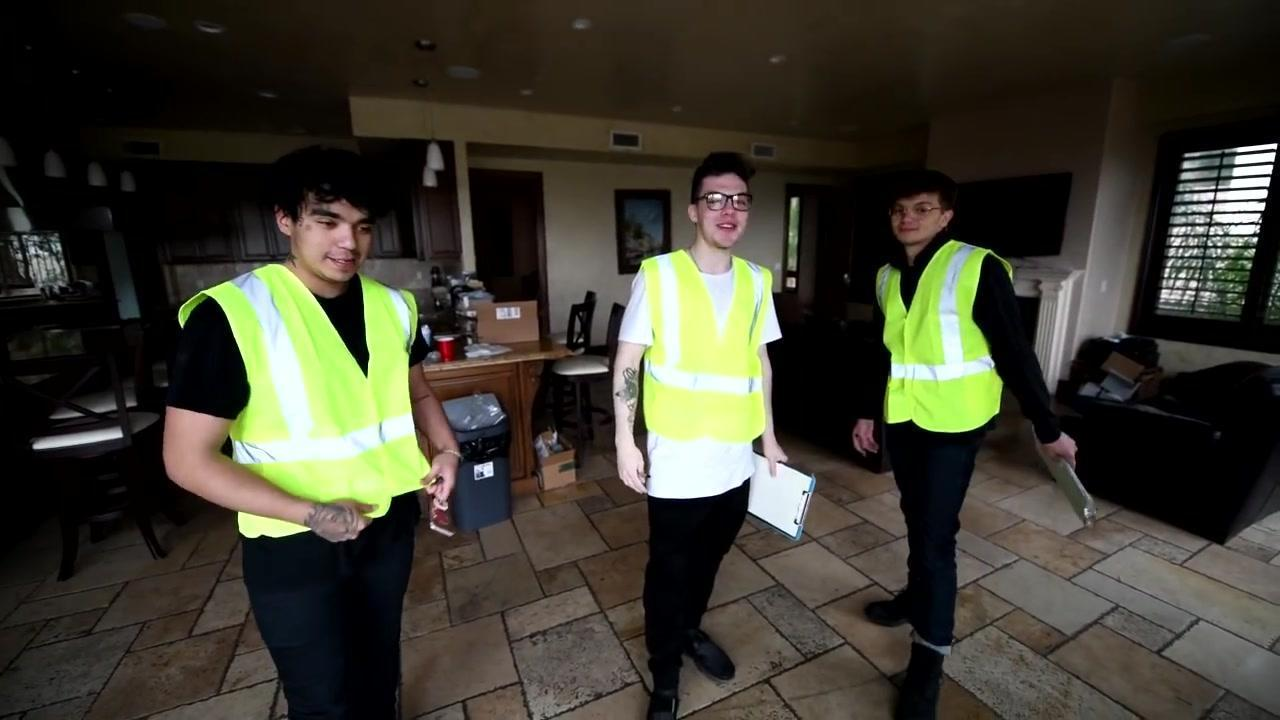vest: (172, 264, 433, 537), (871, 238, 1016, 432), (638, 244, 772, 443)
